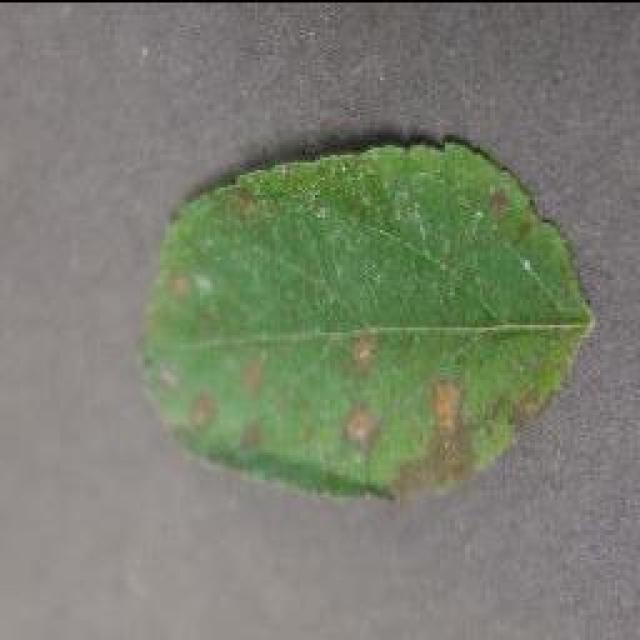apple healthy: (135, 130, 595, 505)
